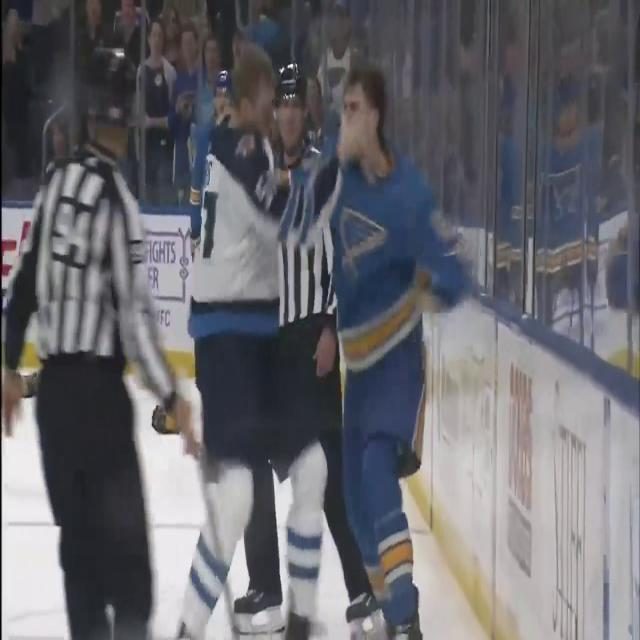Violence: (191, 54, 468, 554)
